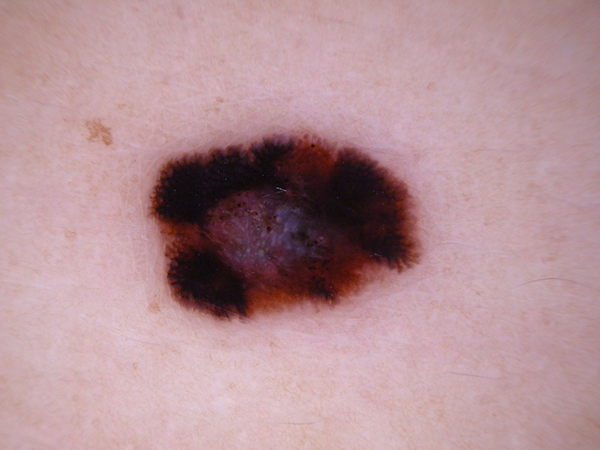Detected Lesion: (144, 127, 433, 327)
